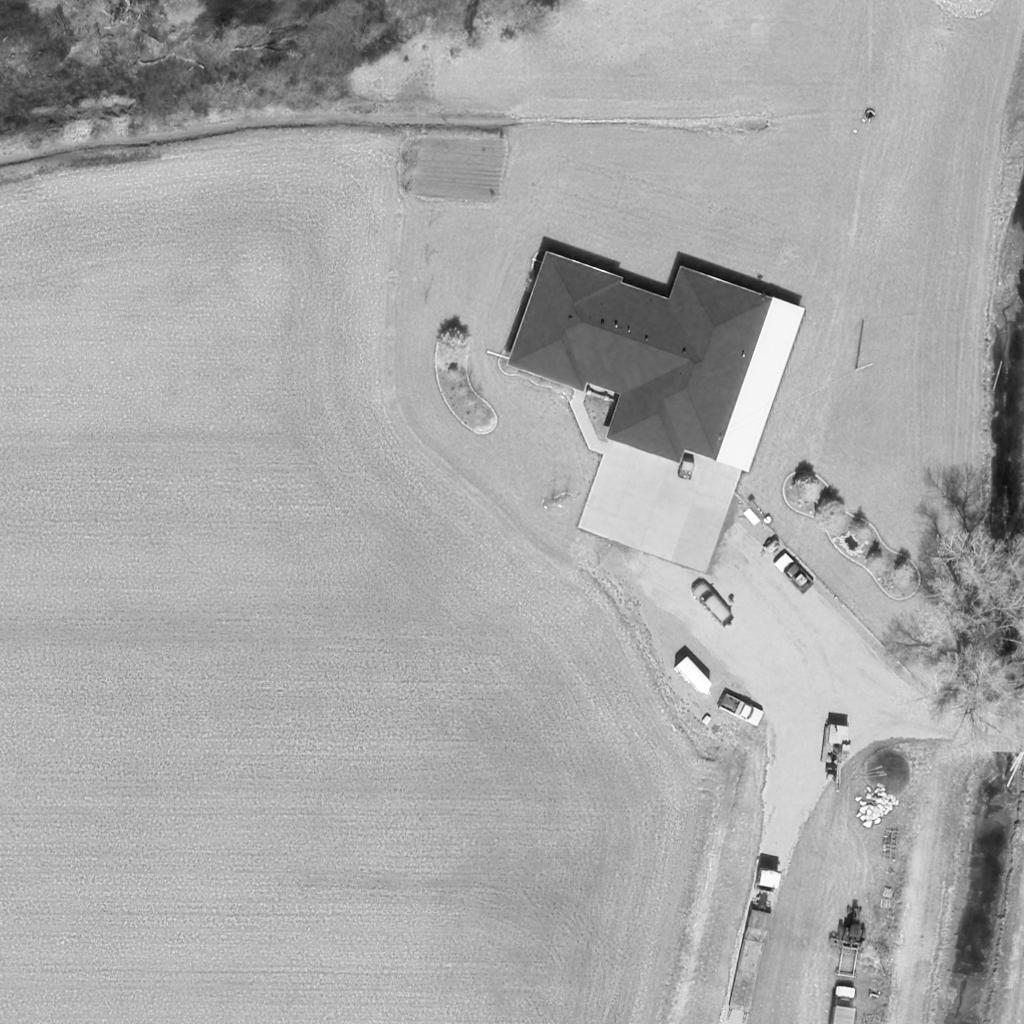vehicle: (727, 867, 783, 1013), (688, 580, 736, 626), (821, 726, 849, 790), (718, 693, 766, 727), (775, 553, 815, 593), (674, 657, 712, 697), (841, 904, 871, 942), (830, 986, 858, 1024)
